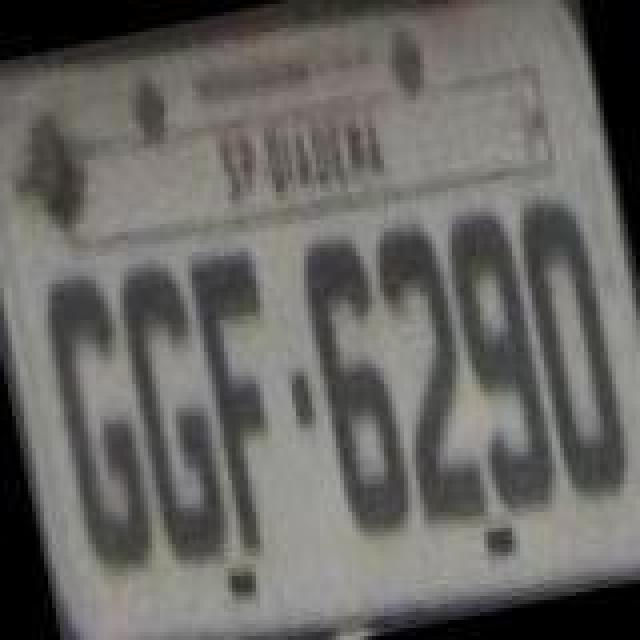2: (362, 218, 494, 534)
6: (286, 228, 418, 540)
9: (434, 202, 566, 518)
F: (182, 242, 314, 558)
G: (28, 268, 164, 580), (110, 256, 242, 576)
O: (504, 186, 640, 502)
